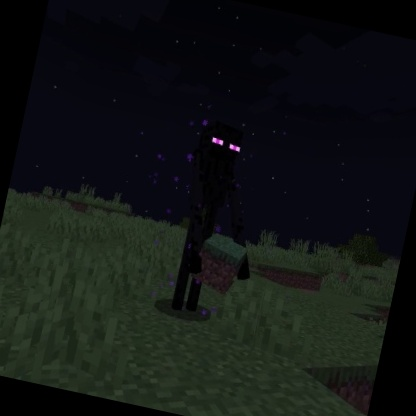enderman: (155, 113, 283, 329)
